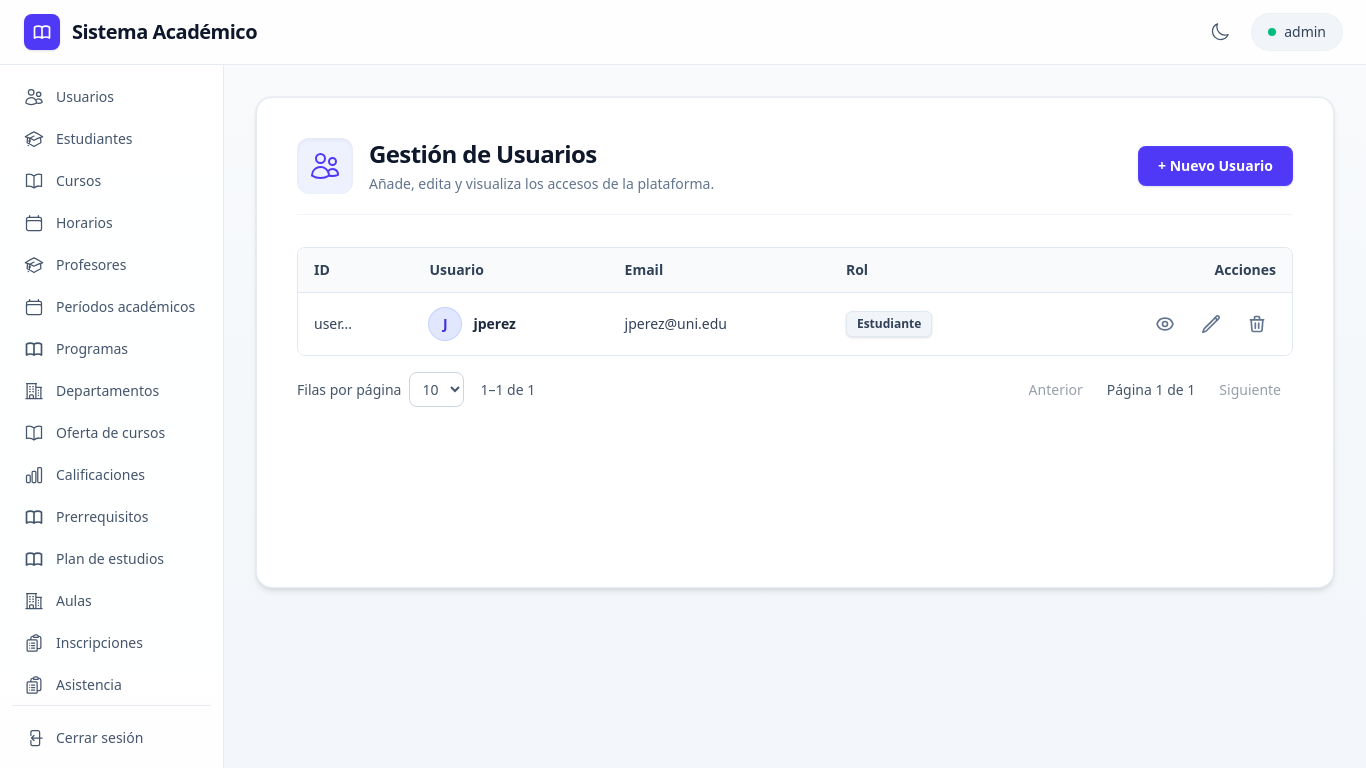
it: UsuariosPage › permite abrir el modal para eliminar y confirmar eliminación
Check: the text "jperez" is shown, box [473, 314, 516, 334]
Note: Clic en eliminar
What coordinates should you click on to do the following:
click the button named "Eliminar"
I would click on:
 (1257, 324)
Its box is [1238, 305, 1276, 343].
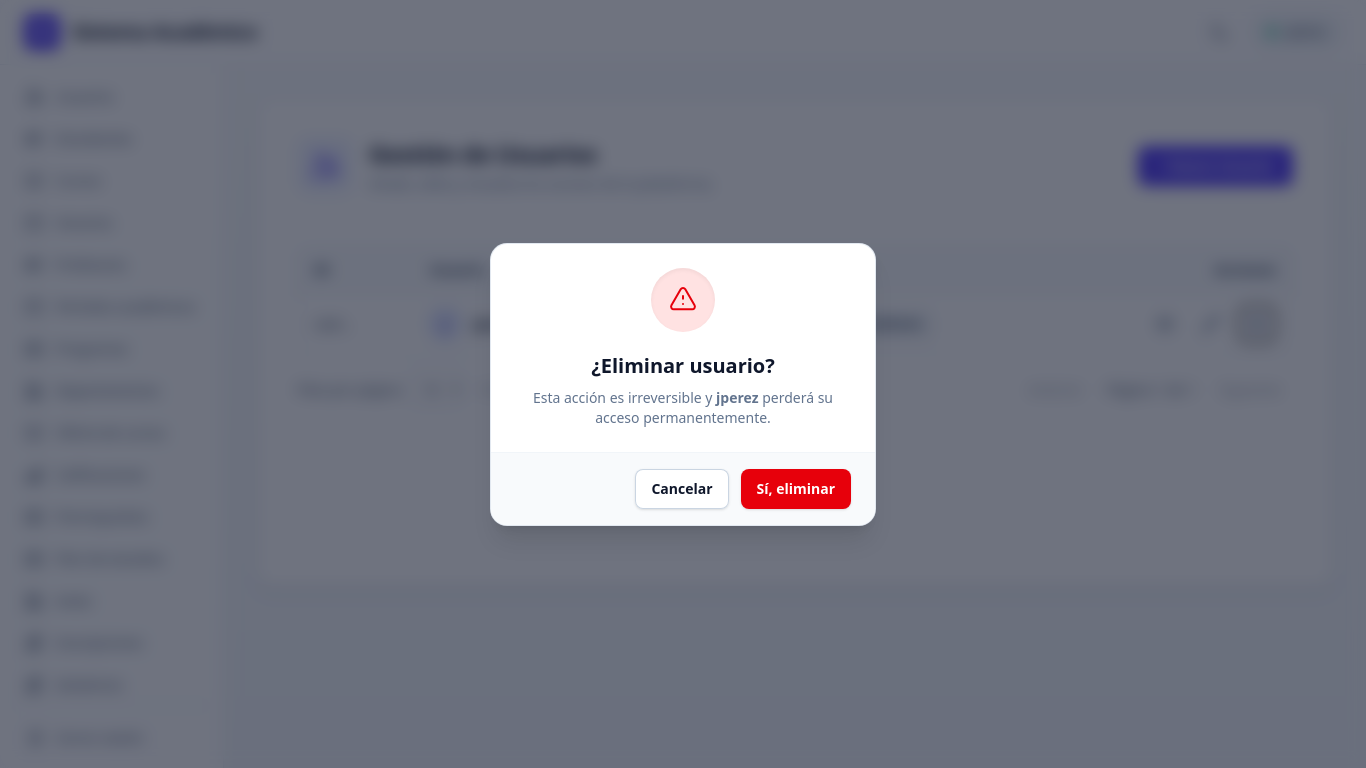
Check: the heading "¿Eliminar usuario?" is shown, box [591, 352, 775, 378]
What coordinates should you click on to do the following:
click the button "Sí, eliminar"
I would click on:
 (796, 488)
Its box is [740, 468, 851, 508].
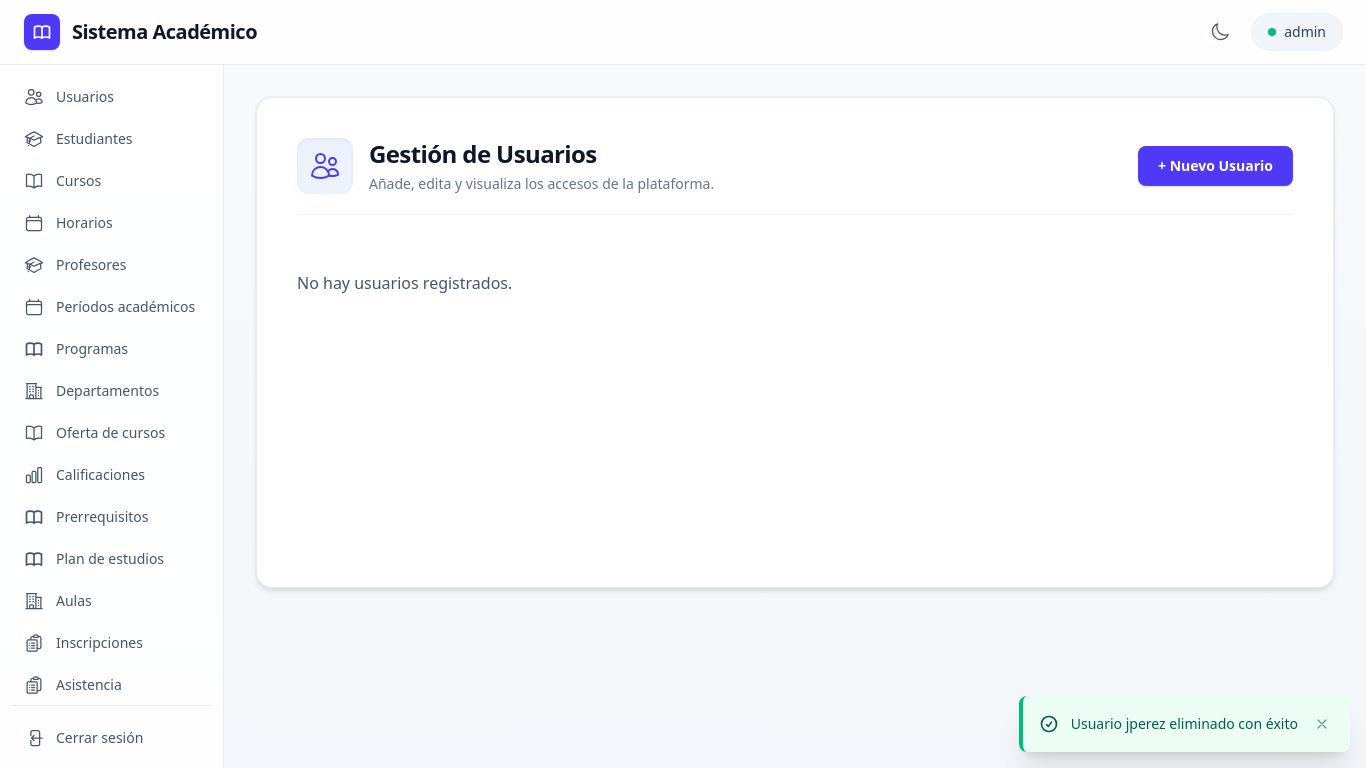
Check: the text "Usuario jperez eliminado con éxito" is shown, box [1071, 714, 1298, 734]
